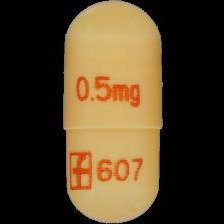0469-0607: (0, 0, 224, 224)
